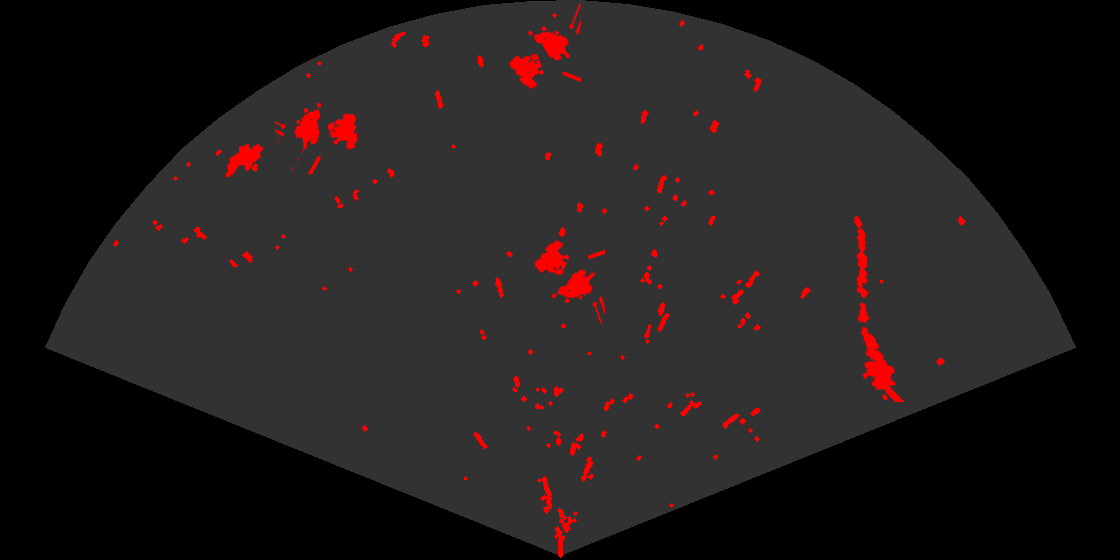AUV: (224, 142, 265, 179)
cage: (508, 4, 581, 91), (275, 101, 359, 174), (533, 238, 605, 323)
chain: (852, 214, 872, 323)
frogman: (859, 325, 906, 402)
